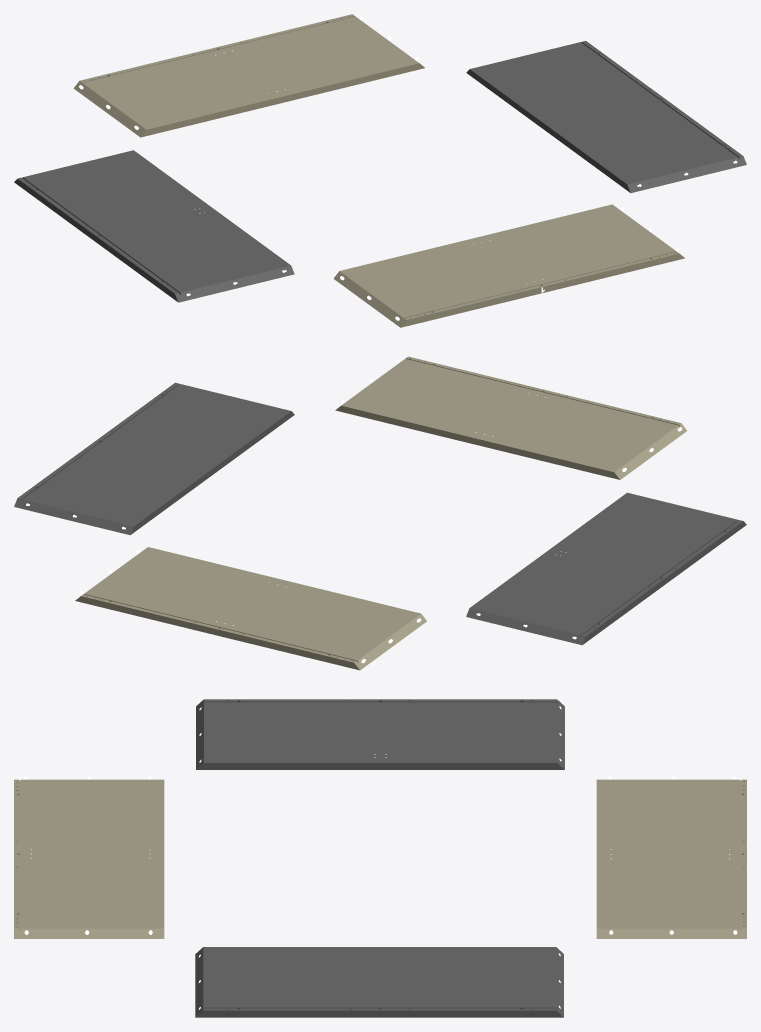
Rendered from Etapes_1.glb.
3 renders of one model, top to bottom at view 1: azimuth 30°, elevation 25°; view 2: azimuth 150°, elevation 25°; view 3: azimuth 270°, elevation 25°, orthographic. The views are drawn at different scales.
Visible parts, largest first — view 1: Cube.003, Cube.002, Cube, Cube.001; view 2: Cube.002, Cube.003, Cube, Cube.001; view 3: Cube, Cube.001, Cube.003, Cube.002.
Boxes of the visible parts, left/top/right/bottom form: Cube.003: left=73, top=14, right=424, bottom=137; Cube.002: left=333, top=204, right=684, bottom=327; Cube: left=466, top=41, right=746, bottom=192; Cube.001: left=14, top=150, right=294, bottom=302; Cube.002: left=335, top=356, right=686, bottom=479; Cube.003: left=75, top=547, right=426, bottom=670; Cube: left=14, top=382, right=294, bottom=535; Cube.001: left=466, top=492, right=746, bottom=645; Cube: left=195, top=947, right=563, bottom=1017; Cube.001: left=196, top=699, right=564, bottom=769; Cube.003: left=596, top=776, right=746, bottom=938; Cube.002: left=14, top=776, right=164, bottom=938.
Size of the model in its own units: 1.52 by 0.0194 by 1.51.
